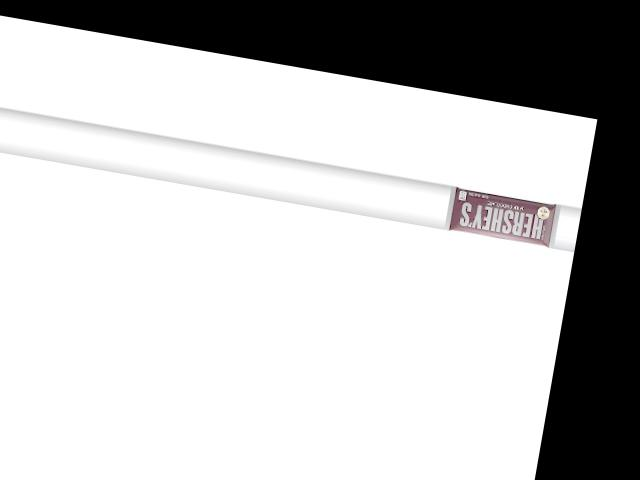chocolate: (444, 181, 559, 246)
